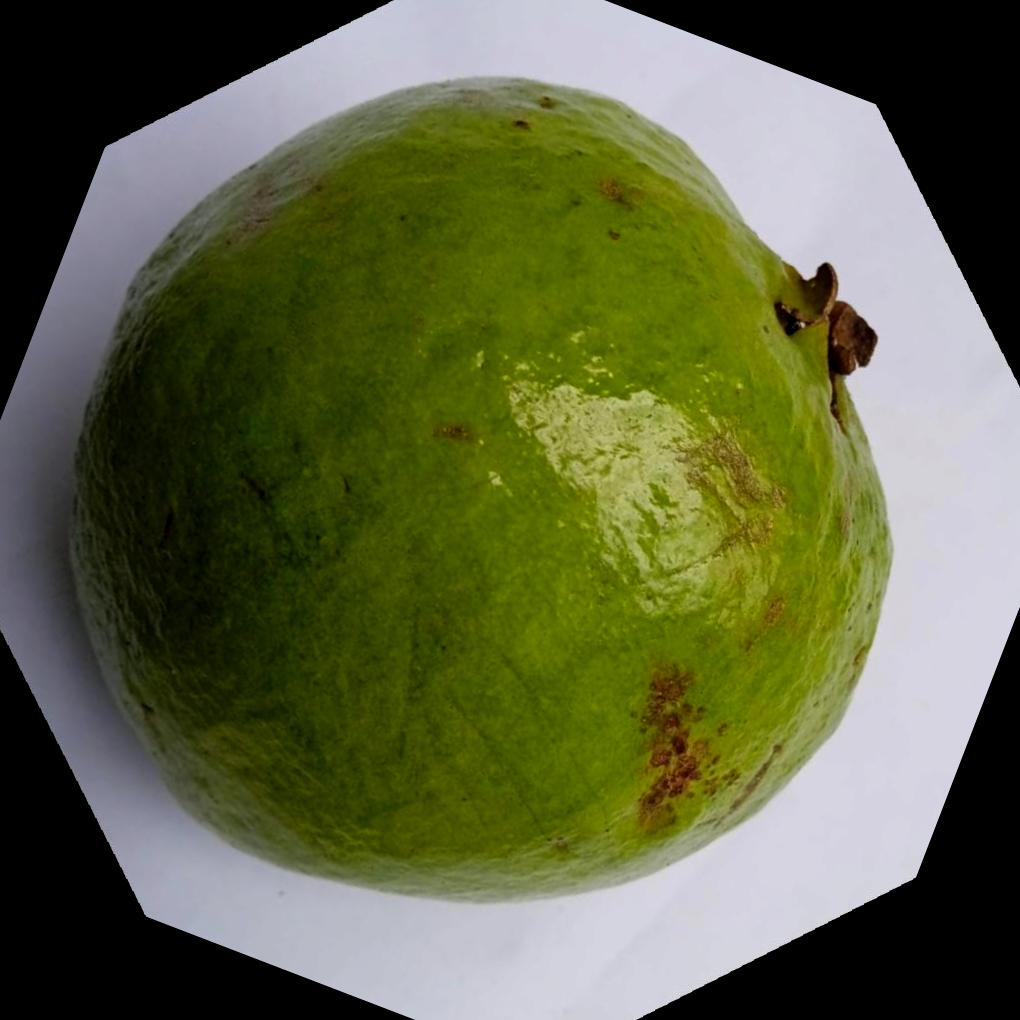FreshGuava: (60, 72, 892, 902)
